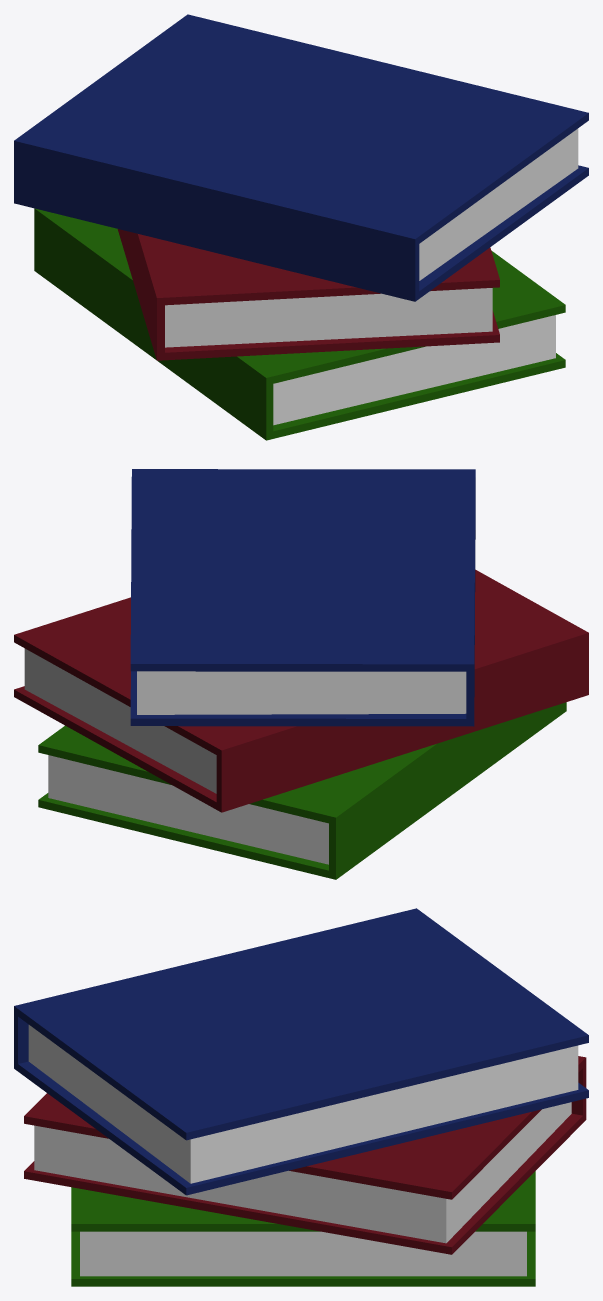
File: Books.fbx
3 views of the same model, one above another, from view 1: azimuth 30°, elevation 25°; view 2: azimuth 150°, elevation 25°; view 3: azimuth 270°, elevation 25° (orthographic).
Parts seen in each view (by area): view 1: Cube.002, Cube, Cube.001; view 2: Cube.002, Cube.001, Cube; view 3: Cube.002, Cube.001, Cube.
Part boxes in pixels (x1=…): Cube.002: x1=14, y1=14, x2=588, y2=301; Cube: x1=34, y1=208, x2=565, y2=440; Cube.001: x1=117, y1=229, x2=499, y2=360; Cube.002: x1=130, y1=469, x2=475, y2=726; Cube.001: x1=14, y1=569, x2=588, y2=812; Cube: x1=38, y1=702, x2=566, y2=879; Cube.002: x1=14, y1=908, x2=588, y2=1195; Cube.001: x1=24, y1=1056, x2=586, y2=1254; Cube: x1=71, y1=1171, x2=535, y2=1286.
Size of the model in its own units: 229 by 91.77 by 248.
